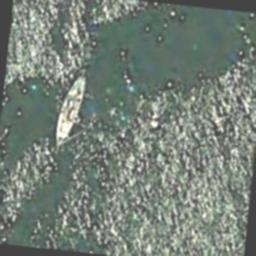boat: (52, 71, 88, 150)
